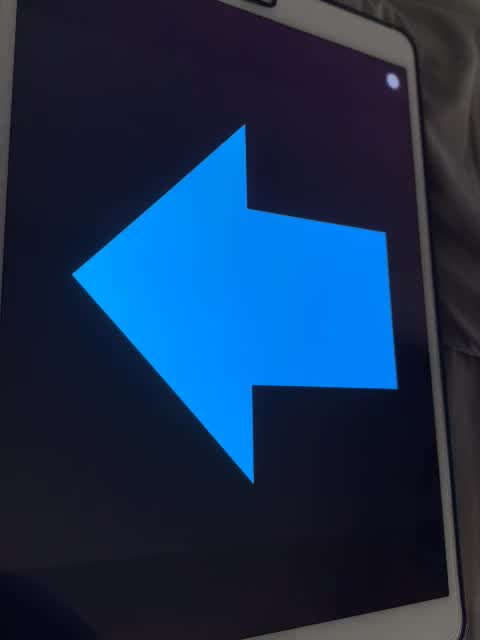left: (70, 107, 400, 490)
